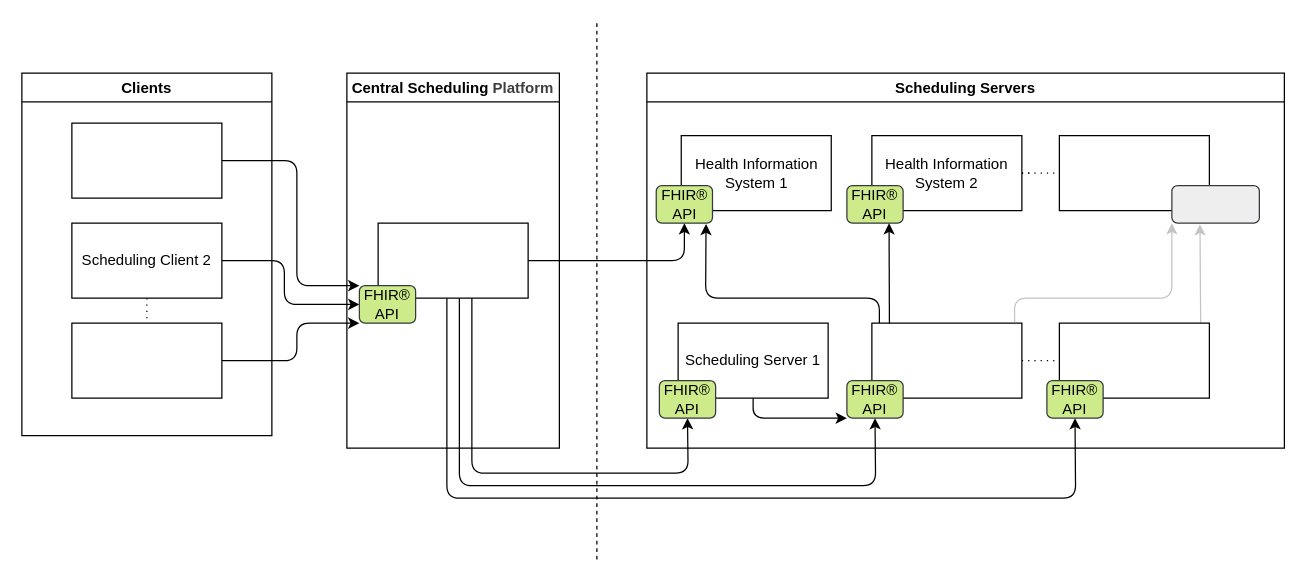
Some shapes in this 1306 by 583 pixel diagram are drawn without their labels. The centre of each missing label's shape, as x and y in pixels:
Health Information System n: the point at 1133,172
Other API: the point at 1215,203
Scheduling Client 1: the point at 146,160
Scheduling Client n: the point at 146,360
Scheduling Server: the point at 452,260
Scheduling Server 2: the point at 946,360
Scheduling Server n: the point at 1133,360
